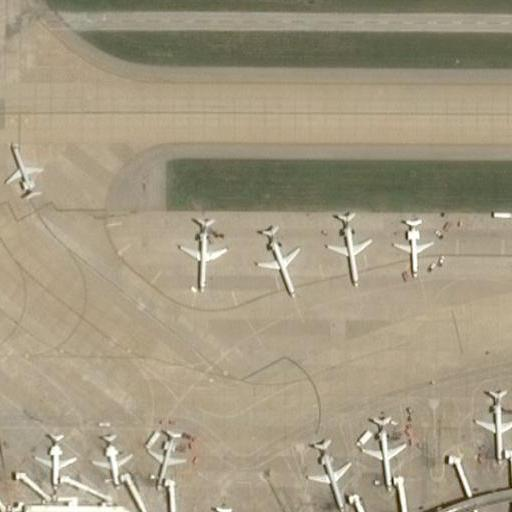Aircraft: (297, 427, 356, 511), (248, 213, 305, 296), (322, 204, 378, 287), (172, 212, 229, 291), (357, 408, 413, 488), (468, 381, 512, 469), (139, 422, 189, 492), (0, 133, 47, 204), (385, 206, 434, 274), (87, 425, 134, 493), (27, 427, 77, 489), (191, 497, 239, 512)
